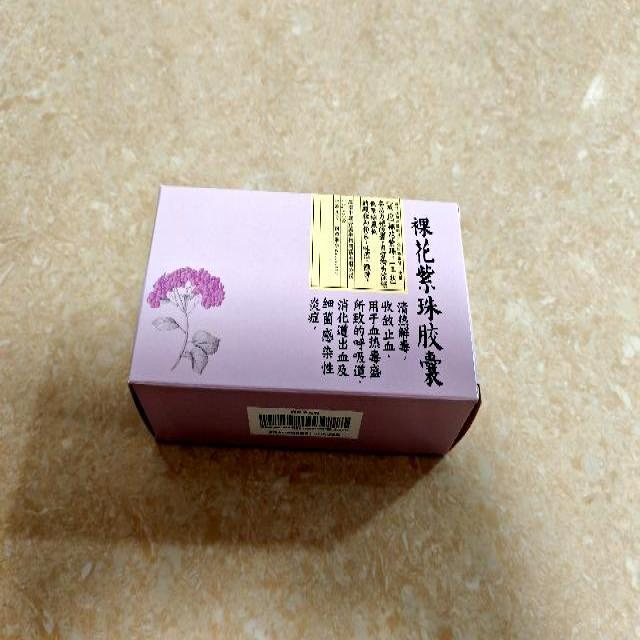box: (125, 182, 482, 454)
